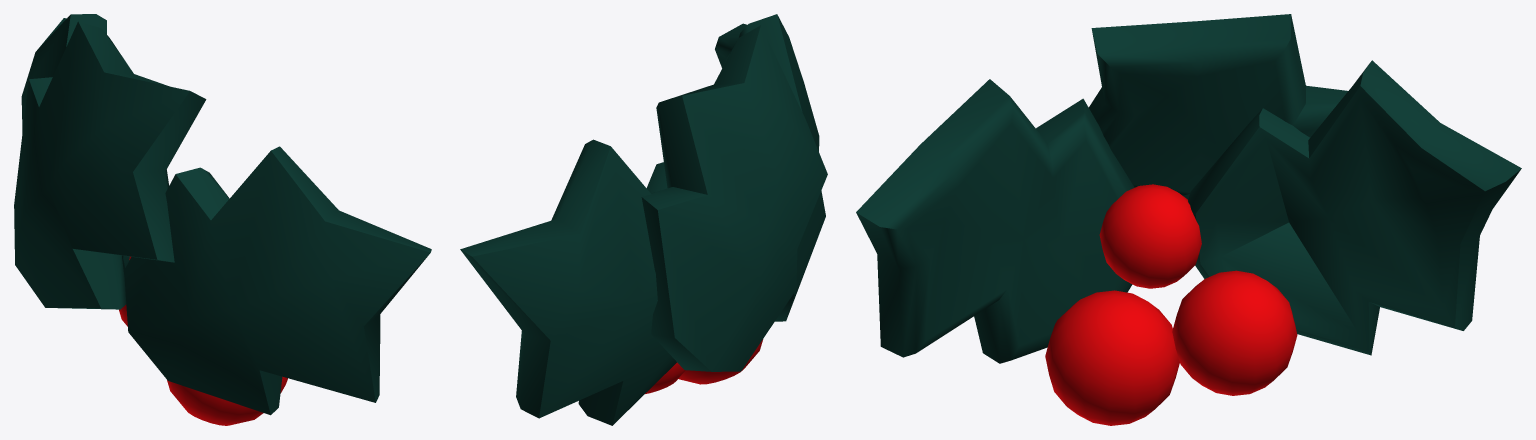
The model's file is leaves.fbx.
The picture shows the model from 3 angles, left to right: view 1: azimuth 30°, elevation 25°; view 2: azimuth 150°, elevation 25°; view 3: azimuth 270°, elevation 25°; orthographic projection. The views are drawn at different scales.
Parts seen in each view (by area): view 1: bells.001; view 2: bells.001; view 3: bells.001.
Part boxes in pixels (x1,y1,x2,y2): bells.001: [14, 14, 431, 425]; bells.001: [460, 14, 827, 425]; bells.001: [856, 14, 1521, 425].
Bounding box in the file's own units: 0.046 × 0.0688 × 0.1116.
